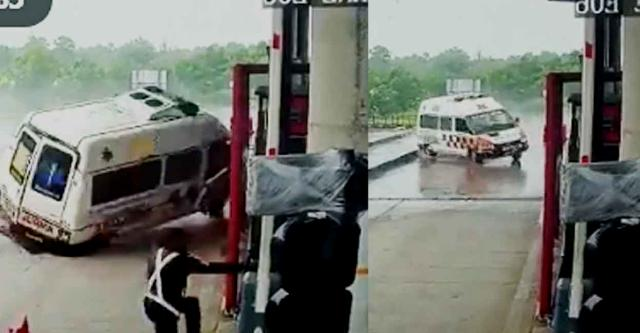ambulance: (0, 80, 234, 259), (415, 83, 530, 176)
